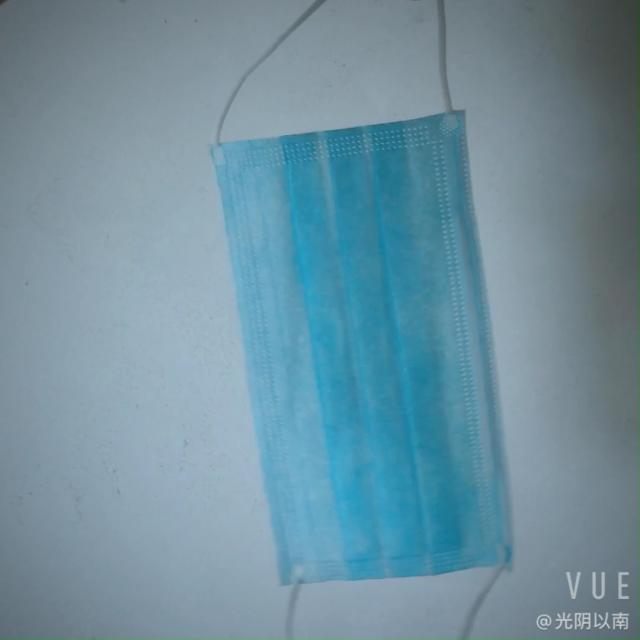face mask: (262, 102, 498, 607)
